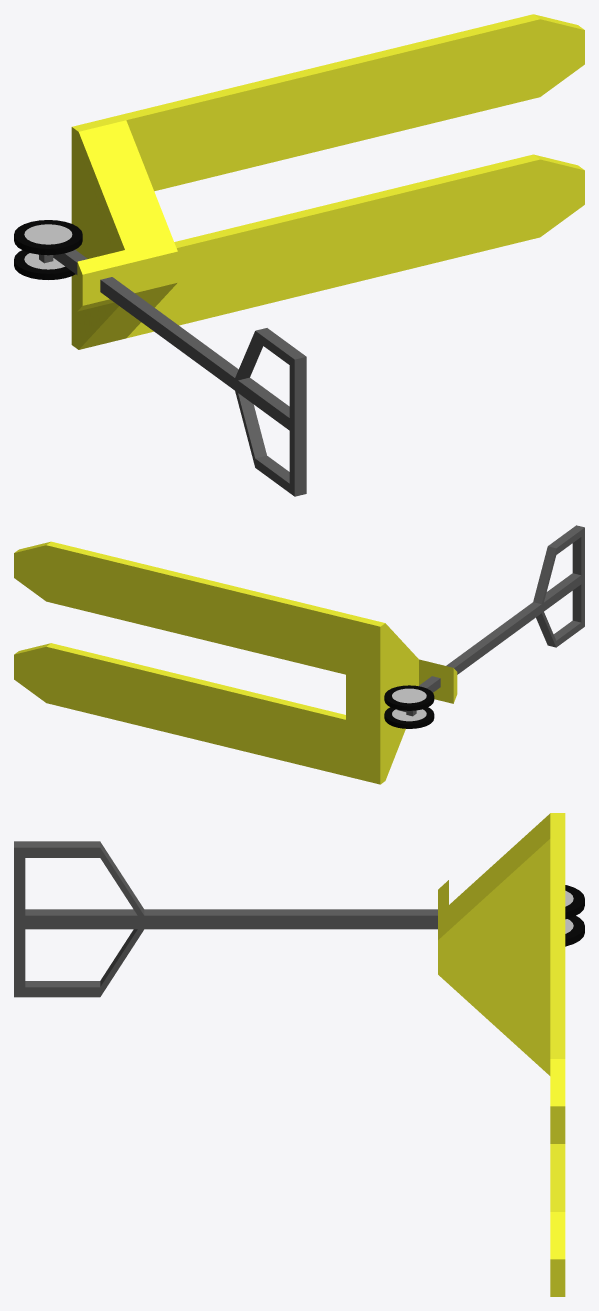
The model's file is pallet_trolley_2.dae.
3 views of the same model, one above another, from view 1: azimuth 30°, elevation 25°; view 2: azimuth 150°, elevation 25°; view 3: azimuth 270°, elevation 25° (orthographic). The views are drawn at different scales.
Visible parts, largest first — view 1: coords_ME_ID19_MA_material_1, coords_ME_ID59_MA_material_10, coords_ME_ID27_MA_material_8, coords_ME_ID33_MA_material_10, coords_ME_ID47_MA_material_10, coords_ME_ID77_MA_material_11, coords_ME_ID11_MA_material_8; view 2: coords_ME_ID19_MA_material_1, coords_ME_ID59_MA_material_10, coords_ME_ID27_MA_material_8, coords_ME_ID47_MA_material_10, coords_ME_ID11_MA_material_8, coords_ME_ID33_MA_material_10, coords_ME_ID77_MA_material_11; view 3: coords_ME_ID19_MA_material_1, coords_ME_ID59_MA_material_10, coords_ME_ID33_MA_material_10, coords_ME_ID47_MA_material_10.
Boxes of the visible parts, left/top/right/bottom form: coords_ME_ID19_MA_material_1: left=71, top=14, right=584, bottom=349; coords_ME_ID59_MA_material_10: left=39, top=250, right=306, bottom=496; coords_ME_ID27_MA_material_8: left=14, top=220, right=82, bottom=255; coords_ME_ID33_MA_material_10: left=238, top=393, right=289, bottom=483; coords_ME_ID47_MA_material_10: left=238, top=340, right=289, bottom=417; coords_ME_ID77_MA_material_11: left=24, top=224, right=72, bottom=244; coords_ME_ID11_MA_material_8: left=14, top=250, right=75, bottom=279; coords_ME_ID19_MA_material_1: left=14, top=541, right=457, bottom=784; coords_ME_ID59_MA_material_10: left=398, top=525, right=584, bottom=716; coords_ME_ID27_MA_material_8: left=384, top=685, right=434, bottom=710; coords_ME_ID47_MA_material_10: left=544, top=537, right=581, bottom=602; coords_ME_ID11_MA_material_8: left=384, top=707, right=434, bottom=728; coords_ME_ID33_MA_material_10: left=553, top=584, right=581, bottom=640; coords_ME_ID77_MA_material_11: left=392, top=688, right=426, bottom=703; coords_ME_ID19_MA_material_1: left=438, top=813, right=565, bottom=1296; coords_ME_ID59_MA_material_10: left=14, top=841, right=437, bottom=997; coords_ME_ID33_MA_material_10: left=25, top=929, right=137, bottom=987; coords_ME_ID47_MA_material_10: left=25, top=909, right=137, bottom=915.
Bounding box in the file's own units: 15.01 × 5.51 × 11.99.
